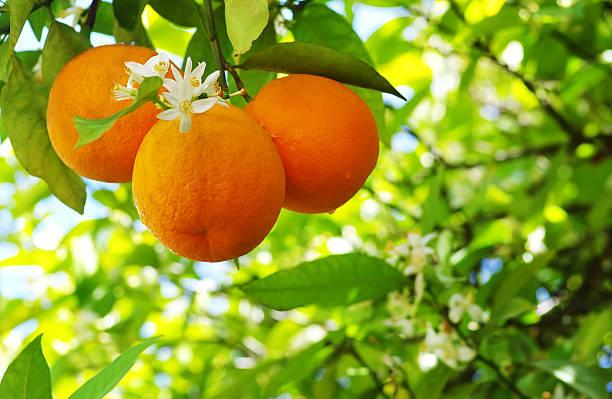orange: (128, 96, 275, 257), (49, 26, 198, 178), (259, 65, 382, 218)
